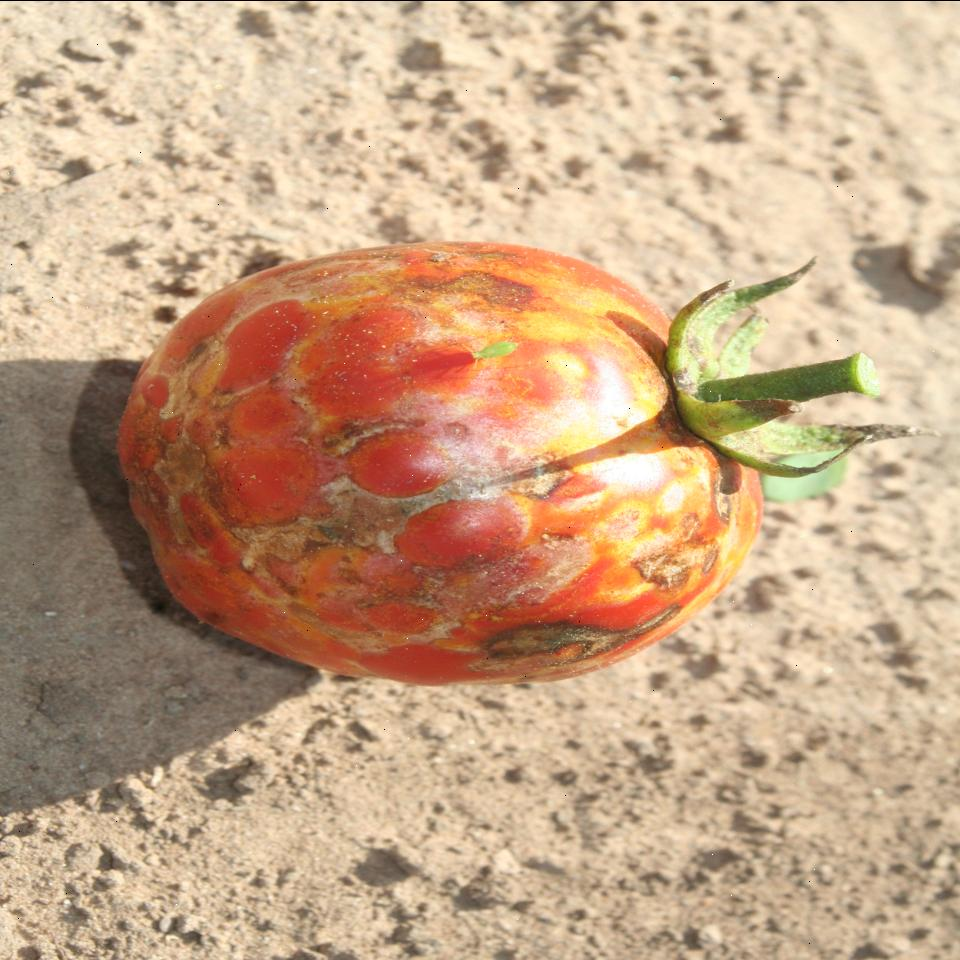Spotted wilt Virus: (115, 241, 763, 683)
